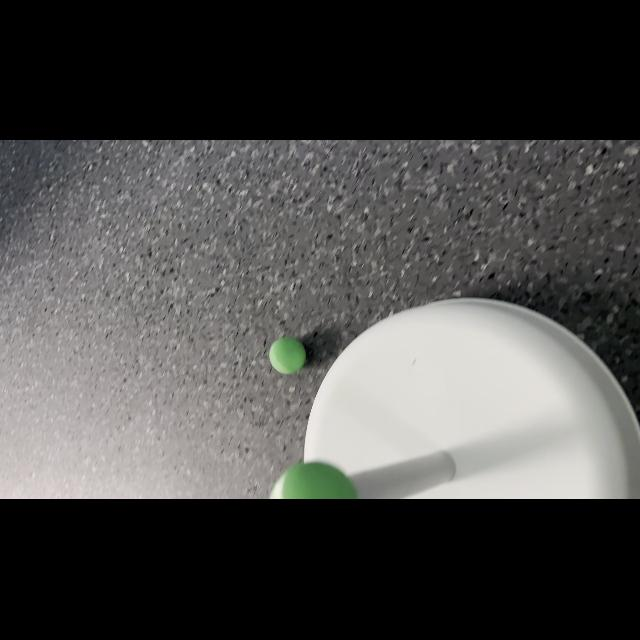objects: (265, 334, 309, 378)
